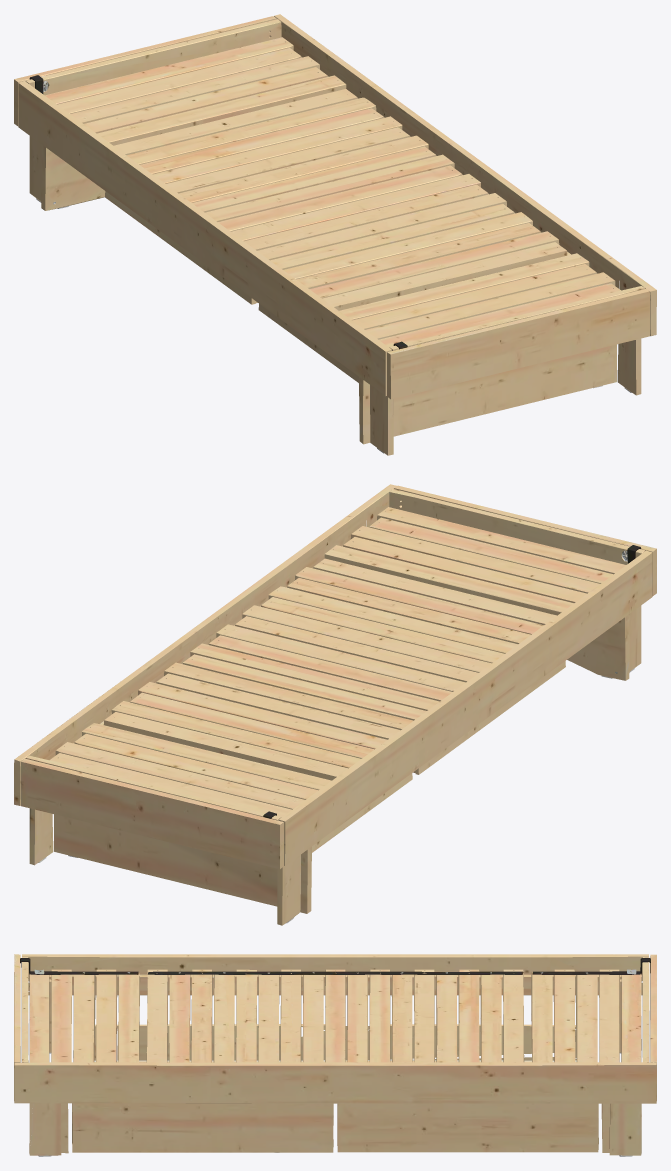
3 renders of one model, top to bottom at view 1: azimuth 30°, elevation 25°; view 2: azimuth 150°, elevation 25°; view 3: azimuth 270°, elevation 25°, orthographic. The views are drawn at different scales.
Visible parts, largest first — view 1: base_bedsize; view 2: base_bedsize; view 3: base_bedsize.
Boxes of the visible parts, x1,y1,x2,y2 form: base_bedsize: [14, 14, 656, 455]; base_bedsize: [14, 484, 656, 925]; base_bedsize: [14, 954, 656, 1156].
Size of the model in its own units: 0.864 by 0.351 by 2.11.
1 material, 1 textured.
